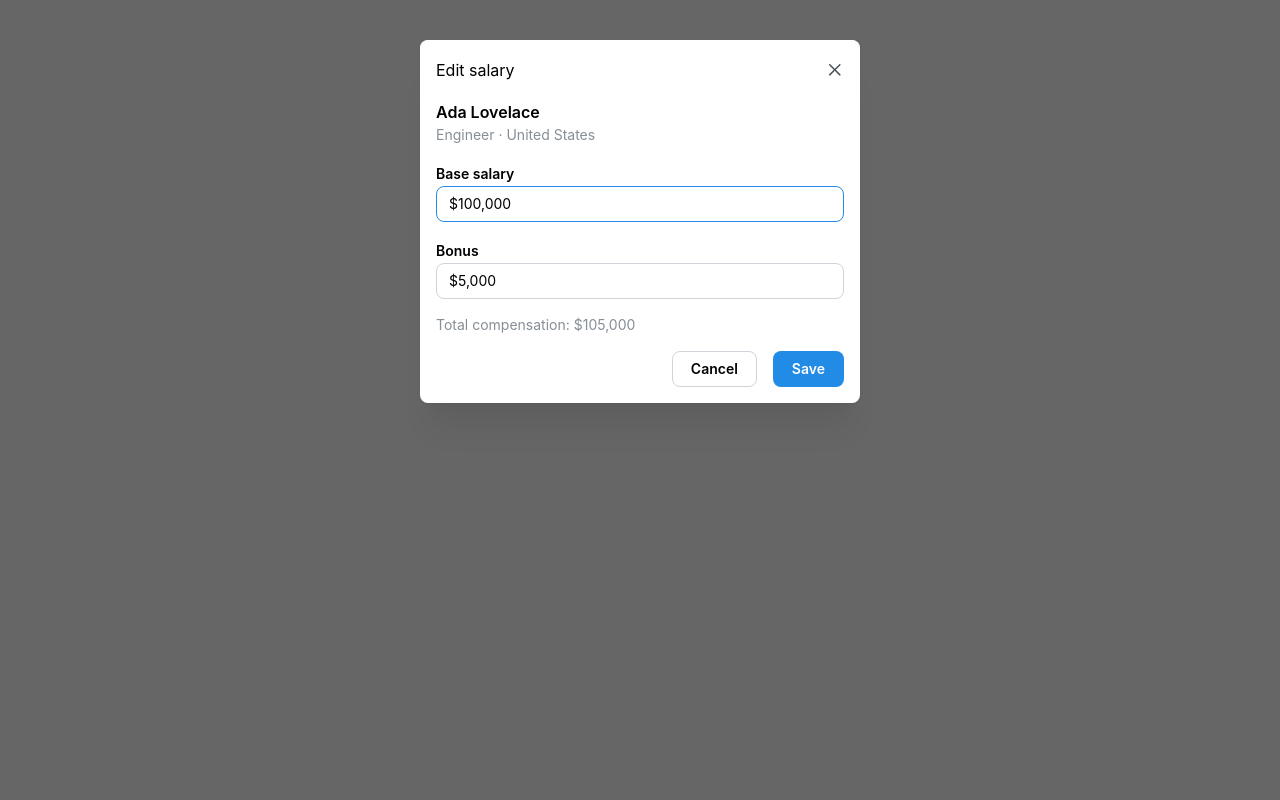
Test case: SalaryEditModal › clears a field's error once the value is edited
Step 1. Replace the text in the field labelled "Base salary" with "0" → {"x": 640, "y": 204}, box [436,186,844,222]
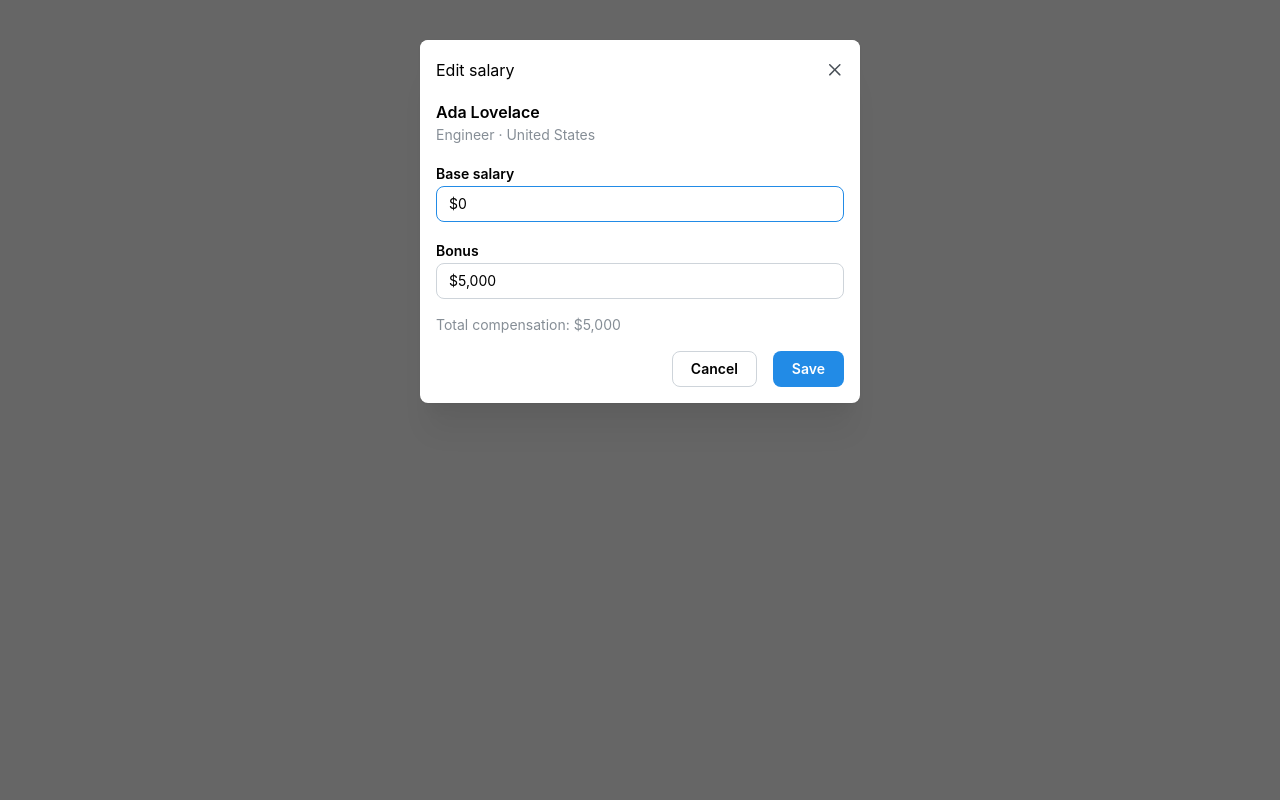
Step 2. Click the button "Save" → {"x": 808, "y": 369}, box [773,351,844,387]
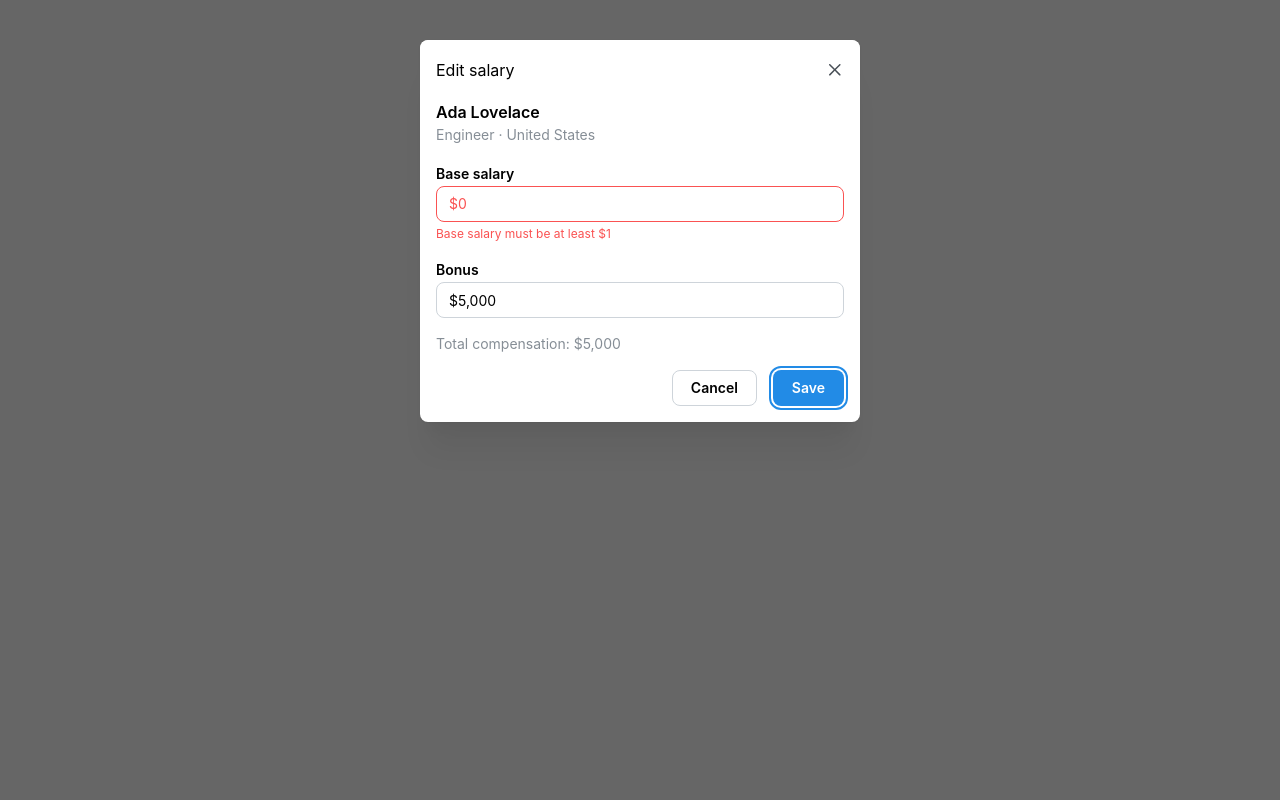
Expected: the text "Base salary must be at least $1" is shown, [436,226,611,241]
Step 3. Type "5" into the field labelled "Base salary" → {"x": 640, "y": 204}, box [436,186,844,222]
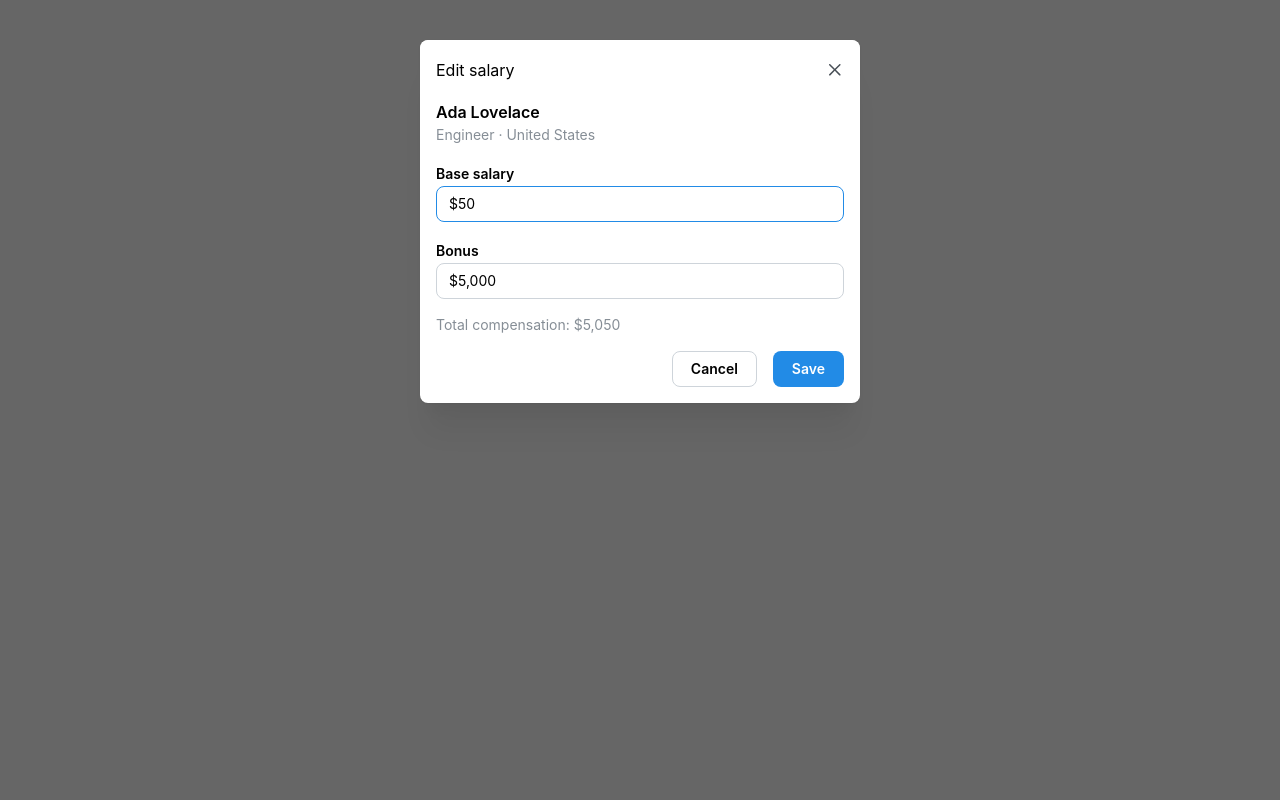
Expected: the text "Base salary must be at least $1" is gone
